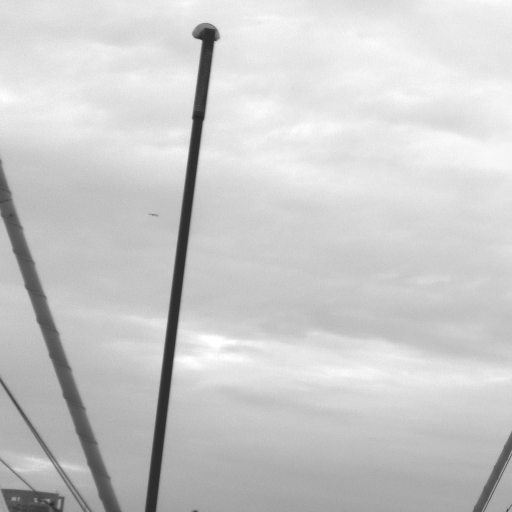uav: (147, 211, 159, 216)
